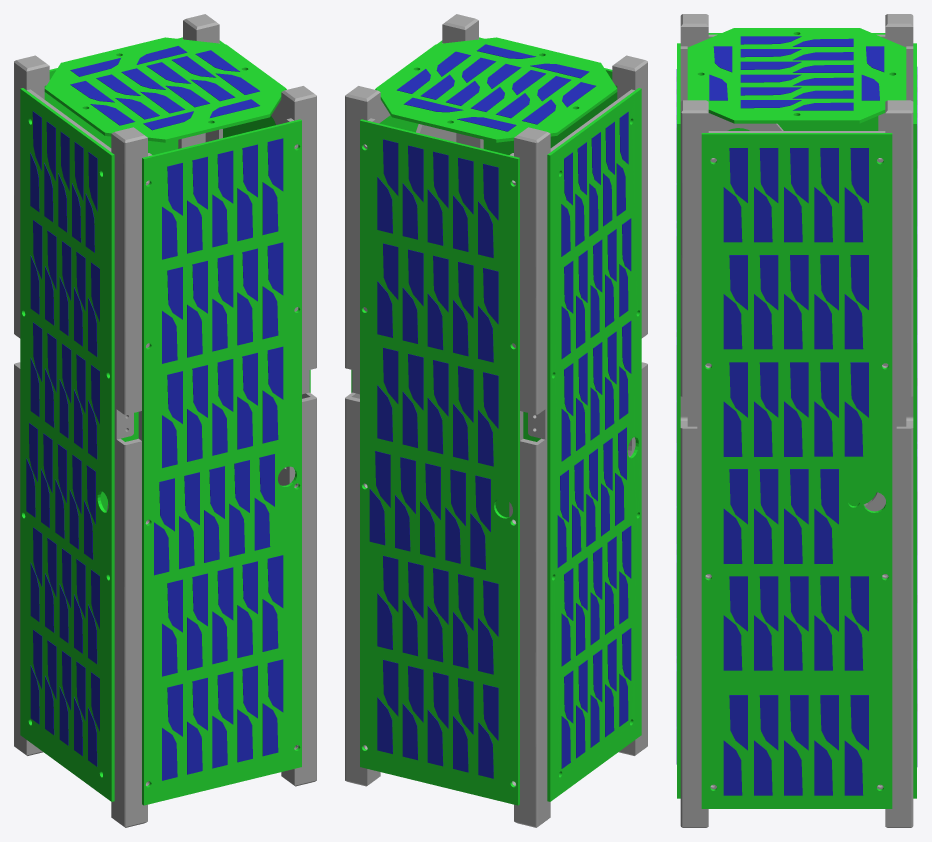
The model's file is Lassat_V1_stk_Aug12.dae.
3 renders of one model, left to right at view 1: azimuth 30°, elevation 25°; view 2: azimuth 150°, elevation 25°; view 3: azimuth 270°, elevation 25°, orthographic. The views are drawn at different scales.
Visible parts, largest first — view 1: LASSAT V1 boards, LASSAT V1 cells, LASSAT V1 rails; view 2: LASSAT V1 boards, LASSAT V1 cells, LASSAT V1 rails; view 3: LASSAT V1 boards, LASSAT V1 cells, LASSAT V1 rails.
Boxes of the visible parts, bbox=[...] form: LASSAT V1 boards: bbox=[20, 37, 310, 805]; LASSAT V1 cells: bbox=[26, 46, 283, 780]; LASSAT V1 rails: bbox=[14, 14, 316, 827]; LASSAT V1 boards: bbox=[351, 37, 641, 805]; LASSAT V1 cells: bbox=[369, 44, 631, 778]; LASSAT V1 rails: bbox=[345, 14, 647, 827]; LASSAT V1 boards: bbox=[677, 28, 916, 808]; LASSAT V1 cells: bbox=[676, 36, 917, 795]; LASSAT V1 rails: bbox=[680, 14, 913, 827].
Bounding box in the file's own units: 0.1038 × 0.1038 × 0.3405.
